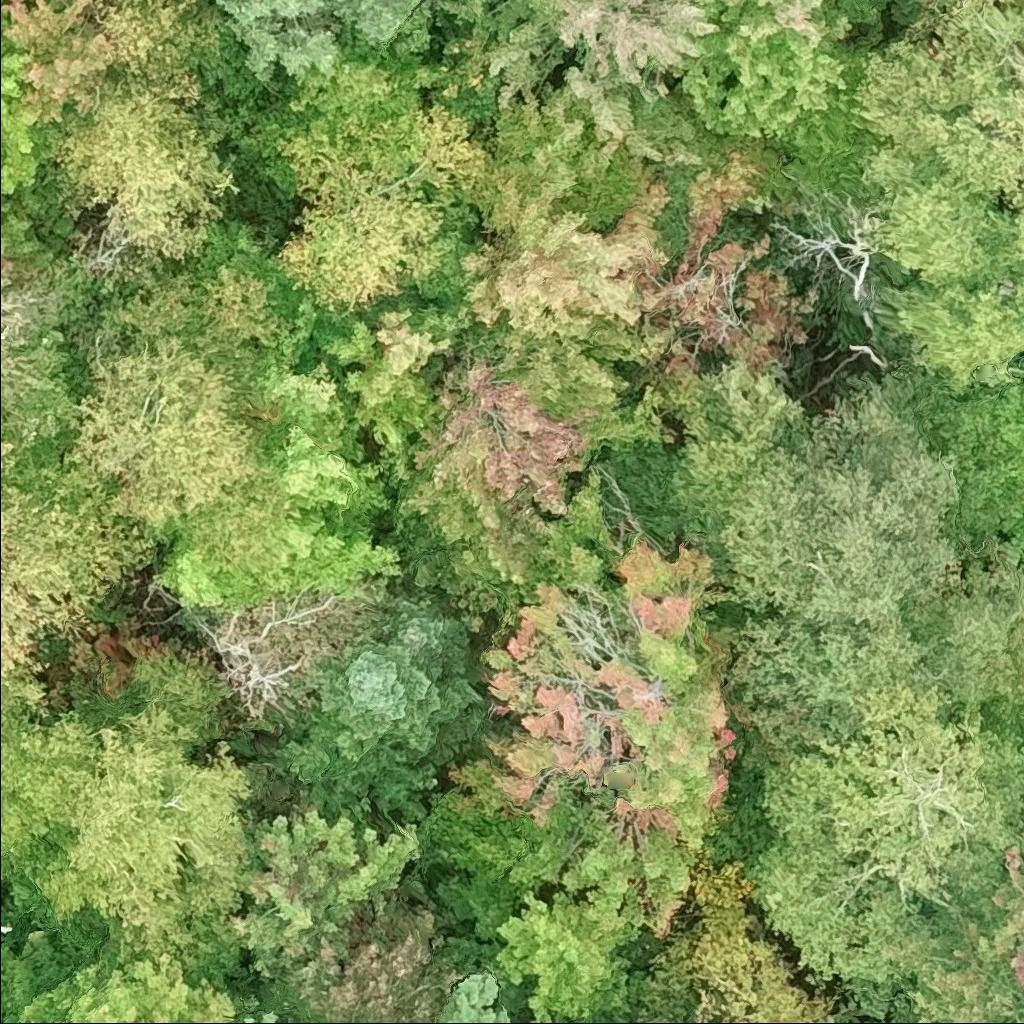crown: (438, 465, 737, 943), (664, 356, 964, 773), (702, 682, 1023, 1022), (371, 323, 680, 626), (149, 282, 406, 612), (66, 250, 301, 597), (457, 46, 675, 350), (27, 654, 259, 928), (267, 84, 492, 318), (51, 0, 241, 264), (852, 0, 1023, 285), (438, 0, 721, 167), (637, 131, 827, 377), (0, 433, 159, 709), (830, 838, 1023, 1023), (229, 804, 425, 979), (314, 281, 476, 489), (676, 0, 881, 156), (260, 871, 462, 1023), (306, 627, 508, 767), (485, 882, 642, 1023), (872, 272, 1023, 393), (0, 949, 244, 1023), (915, 546, 1023, 712), (215, 0, 420, 86), (0, 697, 95, 870), (0, 0, 118, 133), (283, 39, 445, 124), (380, 575, 486, 686), (0, 241, 54, 451), (772, 200, 879, 302), (0, 0, 50, 198), (980, 635, 1023, 737), (438, 968, 510, 1023), (229, 1006, 292, 1023), (1000, 0, 1023, 9), (0, 922, 14, 935), (553, 1017, 567, 1023)
